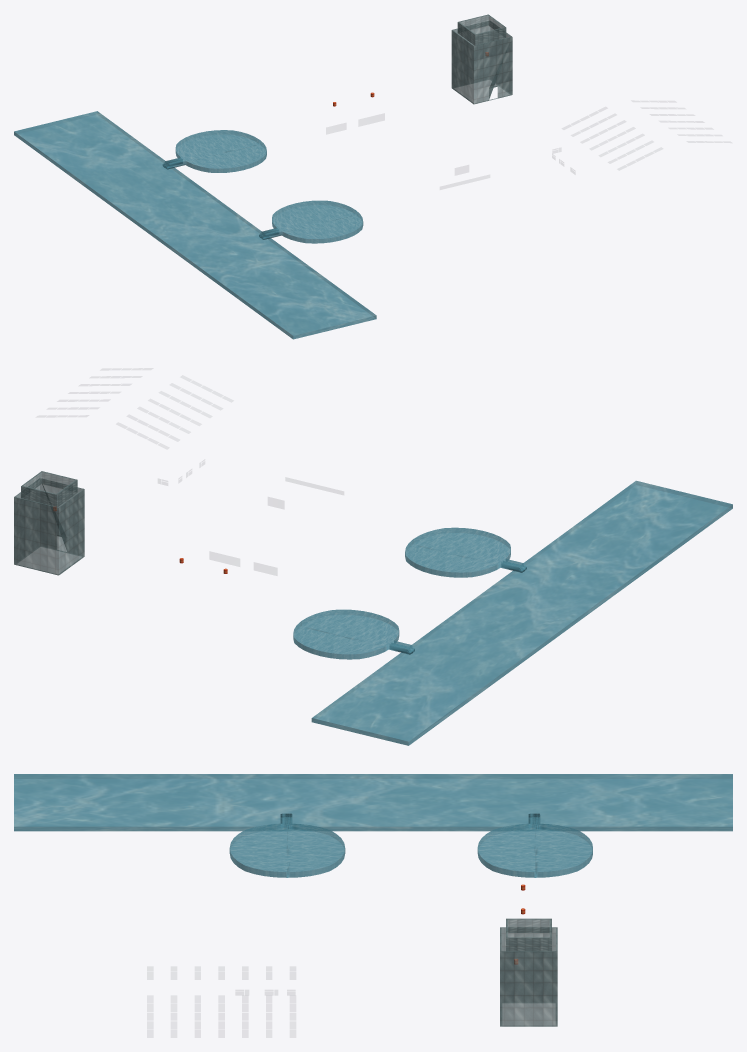
The model's file is material_translucido.fbx.
3 views of the same model, one above another, from view 1: azimuth 30°, elevation 25°; view 2: azimuth 150°, elevation 25°; view 3: azimuth 270°, elevation 25° (orthographic). The views are drawn at different scales.
Parts seen in each view (by area): view 1: traslucidoagua, traslucidoedificio; view 2: traslucidoagua, traslucidoedificio; view 3: traslucidoagua, traslucidoedificio.
Part boxes in pixels (left/top/right/bottom): traslucidoagua: left=14, top=111, right=376, bottom=339; traslucidoedificio: left=451, top=14, right=512, bottom=104; traslucidoagua: left=293, top=480, right=732, bottom=745; traslucidoedificio: left=14, top=471, right=84, bottom=575; traslucidoagua: left=14, top=774, right=732, bottom=877; traslucidoedificio: left=500, top=918, right=557, bottom=1026.
Size of the model in its own units: 54428 by 7783 by 53564.
4 materials, 4 textured.
